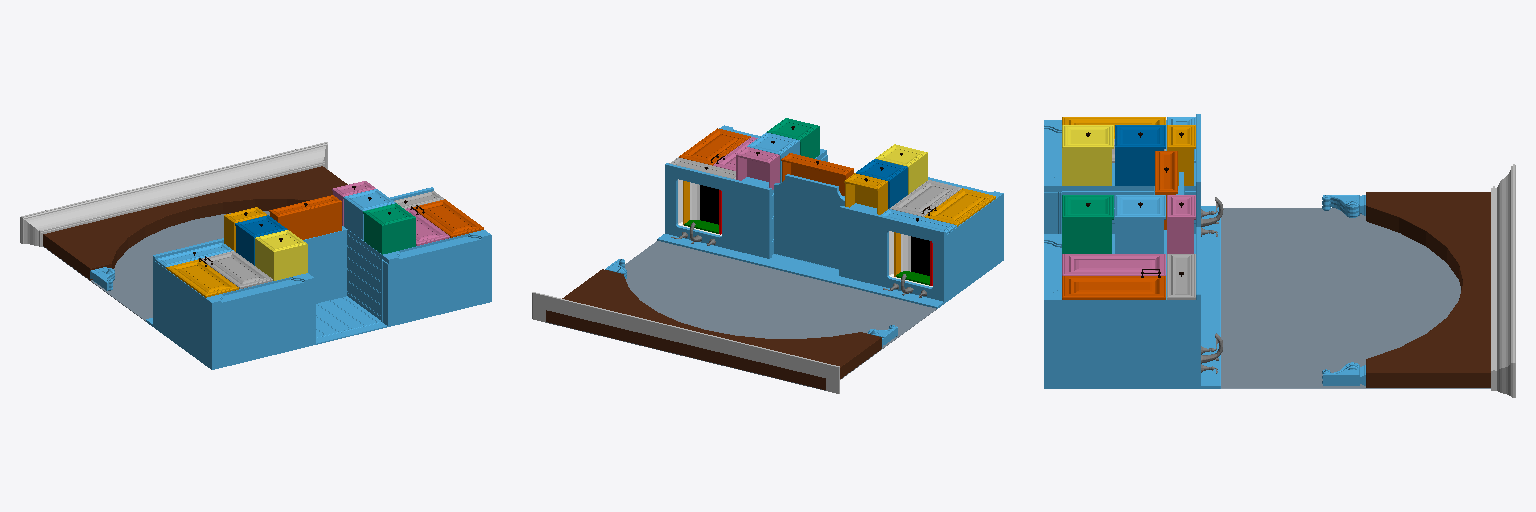
robot.urdf — s__1249:
<robot name="s__1249">


	<link name="0:virtual">
		<visual>
			<origin xyz="0.0 0.0 0.0" rpy="0 0 0"/>
			<geometry>
				<cylinder length="0" radius="0"/>
			</geometry>
		</visual>
	</link>


	<link name="1:static">
		<visual>
			<origin xyz="-0.0 -0.0 -0.0" rpy="0 0 0"/>
			<geometry>
				<mesh filename="../raw_data/s__1249/part_meshes/1.dae" />
			</geometry>
		</visual>
	</link>


	<link name="2:faucet handle 1">
		<visual>
			<origin xyz="1.0483477637624394 -0.9616730017662048 0.2910869707179954" rpy="0 0 0"/>
			<geometry>
				<mesh filename="../raw_data/s__1249/part_meshes/2.dae" />
			</geometry>
		</visual>
	</link>


	<link name="3:faucet lift rod 1">
		<visual>
			<origin xyz="0.9250001608975427 -0.9515649676322937 0.3011934459505527" rpy="0 0 0"/>
			<geometry>
				<mesh filename="../raw_data/s__1249/part_meshes/3.dae" />
			</geometry>
		</visual>
	</link>


	<link name="4:faucet lift rod 2">
		<visual>
			<origin xyz="-0.9249999001612884 -0.9515649676322937 0.3011933341572664" rpy="0 0 0"/>
			<geometry>
				<mesh filename="../raw_data/s__1249/part_meshes/4.dae" />
			</geometry>
		</visual>
	</link>


	<link name="5:cabinet door 1">
		<visual>
			<origin xyz="-1.074999988079071 -0.3999999947845936 -0.22299999743700027" rpy="0 0 0"/>
			<geometry>
				<mesh filename="../raw_data/s__1249/part_meshes/5.dae" />
			</geometry>
		</visual>
	</link>


	<link name="6:cabinet door 2">
		<visual>
			<origin xyz="-0.7750000059604645 -0.3999999947845936 -0.22299999743700027" rpy="0 0 0"/>
			<geometry>
				<mesh filename="../raw_data/s__1249/part_meshes/6.dae" />
			</geometry>
		</visual>
	</link>


	<link name="7:cabinet door 3">
		<visual>
			<origin xyz="0.7750000059604645 -0.3999999947845936 -0.22299999743700027" rpy="0 0 0"/>
			<geometry>
				<mesh filename="../raw_data/s__1249/part_meshes/7.dae" />
			</geometry>
		</visual>
	</link>


	<link name="8:cabinet door 4">
		<visual>
			<origin xyz="1.211499966621399 -0.3674999991059303 -0.22000000154972077" rpy="0 0 0"/>
			<geometry>
				<mesh filename="../raw_data/s__1249/part_meshes/8.dae" />
			</geometry>
		</visual>
	</link>


	<link name="9:drawer 1">
		<visual>
			<origin xyz="-0.4749999940395355 -0.5499999970197678 0.05649749934673309" rpy="0 0 0"/>
			<geometry>
				<mesh filename="../raw_data/s__1249/part_meshes/9.dae" />
			</geometry>
		</visual>
	</link>


	<link name="10:drawer 2">
		<visual>
			<origin xyz="-0.4749999940395355 -0.2500000037252903 0.05649749934673309" rpy="0 0 0"/>
			<geometry>
				<mesh filename="../raw_data/s__1249/part_meshes/10.dae" />
			</geometry>
		</visual>
	</link>


	<link name="11:drawer 3">
		<visual>
			<origin xyz="0.4749999940395355 -0.2500000037252903 0.05649749934673309" rpy="0 0 0"/>
			<geometry>
				<mesh filename="../raw_data/s__1249/part_meshes/11.dae" />
			</geometry>
		</visual>
	</link>


	<link name="12:drawer 4">
		<visual>
			<origin xyz="0.4749999940395355 -0.5499999970197678 0.05649749934673309" rpy="0 0 0"/>
			<geometry>
				<mesh filename="../raw_data/s__1249/part_meshes/12.dae" />
			</geometry>
		</visual>
	</link>


	<link name="13:drawer 5">
		<visual>
			<origin xyz="-0.0 -0.699999988079071 0.0589974969625473" rpy="0 0 0"/>
			<geometry>
				<mesh filename="../raw_data/s__1249/part_meshes/13.dae" />
			</geometry>
		</visual>
	</link>


	<link name="14:drawer 6">
		<visual>
			<origin xyz="-0.4749999940395355 -0.7849999964237213 0.0589974969625473" rpy="0 0 0"/>
			<geometry>
				<mesh filename="../raw_data/s__1249/part_meshes/14.dae" />
			</geometry>
		</visual>
	</link>


	<link name="15:drawer 7">
		<visual>
			<origin xyz="-0.9249999821186066 -0.7849999964237213 0.008211009204387665" rpy="0 0 0"/>
			<geometry>
				<mesh filename="../raw_data/s__1249/part_meshes/15.dae" />
			</geometry>
		</visual>
	</link>


	<link name="16:drawer 8">
		<visual>
			<origin xyz="0.4749999940395355 -0.7849999964237213 0.0589974969625473" rpy="0 0 0"/>
			<geometry>
				<mesh filename="../raw_data/s__1249/part_meshes/16.dae" />
			</geometry>
		</visual>
	</link>


	<link name="17:drawer 9">
		<visual>
			<origin xyz="0.9249999821186066 -0.7849999964237213 0.008211277425289154" rpy="0 0 0"/>
			<geometry>
				<mesh filename="../raw_data/s__1249/part_meshes/17.dae" />
			</geometry>
		</visual>
	</link>


	<link name="18:faucet handle 2">
		<visual>
			<origin xyz="-0.8036218631467004 -0.9572769994735717 0.29963982456509924" rpy="0 0 0"/>
			<geometry>
				<mesh filename="../raw_data/s__1249/part_meshes/18.dae" />
			</geometry>
		</visual>
	</link>


	<link name="19:faucet handle 3">
		<visual>
			<origin xyz="-1.0643813787312422 -0.9572769994735718 0.3152838359203729" rpy="0 0 0"/>
			<geometry>
				<mesh filename="../raw_data/s__1249/part_meshes/19.dae" />
			</geometry>
		</visual>
	</link>


	<link name="20:faucet handle 4">
		<visual>
			<origin xyz="0.8073064237234654 -0.9672769994735718 0.302922795153217" rpy="0 0 0"/>
			<geometry>
				<mesh filename="../raw_data/s__1249/part_meshes/20.dae" />
			</geometry>
		</visual>
	</link>


	<joint name="0:virtual::1:static" type="fixed">
		<parent link="0:virtual"/>
		<child link="1:static"/>
		<origin xyz="0.0 0.0 0.0" rpy="0 0 0"/>
	</joint>


	<joint name="0:virtual::2:faucet handle 1_rotation" type="revolute">
		<parent link="0:virtual"/>
		<child link="2:faucet handle 1"/>
		<origin xyz="-1.0483477637624394 0.9616730017662048 -0.2910869707179954" rpy="0 0 0"/>
		<limit lower="0.20420352248333656" upper="1.1623892818282235" effort="10" velocity="3"/>
		<axis xyz="0.0 1.0 0.0"/>
	</joint>


	<joint name="0:virtual::3:faucet lift rod 1_translation" type="prismatic">
		<parent link="0:virtual"/>
		<child link="3:faucet lift rod 1"/>
		<origin xyz="-0.9250001608975427 0.9515649676322937 -0.3011934459505527" rpy="0 0 0"/>
		<limit lower="0.0" upper="0.0430000321865082" effort="10" velocity="3"/>
		<axis xyz="0.0 1.0 0.0"/>
	</joint>


	<joint name="0:virtual::4:faucet lift rod 2_translation" type="prismatic">
		<parent link="0:virtual"/>
		<child link="4:faucet lift rod 2"/>
		<origin xyz="0.9249999001612884 0.9515649676322937 -0.3011933341572664" rpy="0 0 0"/>
		<limit lower="0.0" upper="0.0430000321865082" effort="10" velocity="3"/>
		<axis xyz="0.0 1.0 0.0"/>
	</joint>


	<joint name="0:virtual::5:cabinet door 1_rotation" type="revolute">
		<parent link="0:virtual"/>
		<child link="5:cabinet door 1"/>
		<origin xyz="1.074999988079071 0.3999999947845936 0.22299999743700027" rpy="0 0 0"/>
		<limit lower="-2.0420352248333655" upper="0.0" effort="10" velocity="3"/>
		<axis xyz="0.0 1.0 0.0"/>
	</joint>


	<joint name="0:virtual::6:cabinet door 2_rotation" type="revolute">
		<parent link="0:virtual"/>
		<child link="6:cabinet door 2"/>
		<origin xyz="0.7750000059604645 0.3999999947845936 0.22299999743700027" rpy="0 0 0"/>
		<limit lower="-2.0420352248333655" upper="0.0" effort="10" velocity="3"/>
		<axis xyz="0.0 1.0 0.0"/>
	</joint>


	<joint name="0:virtual::7:cabinet door 3_rotation" type="revolute">
		<parent link="0:virtual"/>
		<child link="7:cabinet door 3"/>
		<origin xyz="-0.7750000059604645 0.3999999947845936 0.22299999743700027" rpy="0 0 0"/>
		<limit lower="-2.0420352248333655" upper="0.0" effort="10" velocity="3"/>
		<axis xyz="0.0 1.0 0.0"/>
	</joint>


	<joint name="0:virtual::8:cabinet door 4_rotation" type="revolute">
		<parent link="0:virtual"/>
		<child link="8:cabinet door 4"/>
		<origin xyz="-1.211499966621399 0.3674999991059303 0.22000000154972077" rpy="0 0 0"/>
		<limit lower="-2.0420352248333655" upper="0.0" effort="10" velocity="3"/>
		<axis xyz="0.0 1.0 0.0"/>
	</joint>


	<joint name="0:virtual::9:drawer 1_translation" type="prismatic">
		<parent link="0:virtual"/>
		<child link="9:drawer 1"/>
		<origin xyz="0.4749999940395355 0.5499999970197678 -0.05649749934673309" rpy="0 0 0"/>
		<limit lower="0.0060000066161156" upper="0.450000006616116" effort="10" velocity="3"/>
		<axis xyz="0.0 0.0 1.0"/>
	</joint>


	<joint name="0:virtual::10:drawer 2_translation" type="prismatic">
		<parent link="0:virtual"/>
		<child link="10:drawer 2"/>
		<origin xyz="0.4749999940395355 0.2500000037252903 -0.05649749934673309" rpy="0 0 0"/>
		<limit lower="0.0060000066161156" upper="0.450000006616116" effort="10" velocity="3"/>
		<axis xyz="0.0 0.0 1.0"/>
	</joint>


	<joint name="0:virtual::11:drawer 3_translation" type="prismatic">
		<parent link="0:virtual"/>
		<child link="11:drawer 3"/>
		<origin xyz="-0.4749999940395355 0.2500000037252903 -0.05649749934673309" rpy="0 0 0"/>
		<limit lower="0.0060000066161156" upper="0.450000006616116" effort="10" velocity="3"/>
		<axis xyz="0.0 0.0 1.0"/>
	</joint>


	<joint name="0:virtual::12:drawer 4_translation" type="prismatic">
		<parent link="0:virtual"/>
		<child link="12:drawer 4"/>
		<origin xyz="-0.4749999940395355 0.5499999970197678 -0.05649749934673309" rpy="0 0 0"/>
		<limit lower="0.0060000066161156" upper="0.450000006616116" effort="10" velocity="3"/>
		<axis xyz="0.0 0.0 1.0"/>
	</joint>


	<joint name="0:virtual::13:drawer 5_translation" type="prismatic">
		<parent link="0:virtual"/>
		<child link="13:drawer 5"/>
		<origin xyz="0.0 0.699999988079071 -0.0589974969625473" rpy="0 0 0"/>
		<limit lower="0.0060000066161156" upper="0.450000006616116" effort="10" velocity="3"/>
		<axis xyz="0.0 0.0 1.0"/>
	</joint>


	<joint name="0:virtual::14:drawer 6_translation" type="prismatic">
		<parent link="0:virtual"/>
		<child link="14:drawer 6"/>
		<origin xyz="0.4749999940395355 0.7849999964237213 -0.0589974969625473" rpy="0 0 0"/>
		<limit lower="0.0060000066161156" upper="0.450000006616116" effort="10" velocity="3"/>
		<axis xyz="0.0 0.0 1.0"/>
	</joint>


	<joint name="0:virtual::15:drawer 7_translation" type="prismatic">
		<parent link="0:virtual"/>
		<child link="15:drawer 7"/>
		<origin xyz="0.9249999821186066 0.7849999964237213 -0.008211009204387665" rpy="0 0 0"/>
		<limit lower="0.0" upper="0.282000006616116" effort="10" velocity="3"/>
		<axis xyz="0.0 0.0 1.0"/>
	</joint>


	<joint name="0:virtual::16:drawer 8_translation" type="prismatic">
		<parent link="0:virtual"/>
		<child link="16:drawer 8"/>
		<origin xyz="-0.4749999940395355 0.7849999964237213 -0.0589974969625473" rpy="0 0 0"/>
		<limit lower="0.0060000066161156" upper="0.450000006616116" effort="10" velocity="3"/>
		<axis xyz="0.0 0.0 1.0"/>
	</joint>


	<joint name="0:virtual::17:drawer 9_translation" type="prismatic">
		<parent link="0:virtual"/>
		<child link="17:drawer 9"/>
		<origin xyz="-0.9249999821186066 0.7849999964237213 -0.008211277425289154" rpy="0 0 0"/>
		<limit lower="0.0" upper="0.282000006616116" effort="10" velocity="3"/>
		<axis xyz="0.0 0.0 1.0"/>
	</joint>


	<joint name="0:virtual::18:faucet handle 2_rotation" type="revolute">
		<parent link="0:virtual"/>
		<child link="18:faucet handle 2"/>
		<origin xyz="0.8036218631467004 0.9572769994735717 -0.29963982456509924" rpy="0 0 0"/>
		<limit lower="0.3612831551628262" upper="1.6336281798666925" effort="10" velocity="3"/>
		<axis xyz="0.0 1.0 0.0"/>
	</joint>


	<joint name="0:virtual::19:faucet handle 3_rotation" type="revolute">
		<parent link="0:virtual"/>
		<child link="19:faucet handle 3"/>
		<origin xyz="1.0643813787312422 0.9572769994735718 -0.3152838359203729" rpy="0 0 0"/>
		<limit lower="-1.1152653920243765" upper="0.0" effort="10" velocity="3"/>
		<axis xyz="0.0 1.0 0.0"/>
	</joint>


	<joint name="0:virtual::20:faucet handle 4_rotation" type="revolute">
		<parent link="0:virtual"/>
		<child link="20:faucet handle 4"/>
		<origin xyz="-0.8073064237234654 0.9672769994735718 -0.302922795153217" rpy="0 0 0"/>
		<limit lower="-0.9424777960769379" upper="0.21991148575128555" effort="10" velocity="3"/>
		<axis xyz="0.0 1.0 0.0"/>
	</joint>


</robot>

--- Render facts (derived) ---
3 views of the same robot in one strip: view 1: azimuth 30°, elevation 25°; view 2: azimuth 150°, elevation 25°; view 3: azimuth 270°, elevation 25° (orthographic).
Model s__1249 with 21 links and 20 joints (8 revolute, 11 prismatic, 1 fixed), rooted at 0:virtual, posed joints at zero except 9 at the middle of their limits (0:virtual::2:faucet handle 1_rotation = 0.6833, 0:virtual::9:drawer 1_translation = 0.228, 0:virtual::10:drawer 2_translation = 0.228, 0:virtual::11:drawer 3_translation = 0.228, 0:virtual::12:drawer 4_translation = 0.228, 0:virtual::13:drawer 5_translation = 0.228, +3 more).
Links seen in each view (by area): view 1: 1:static, 13:drawer 5, 11:drawer 3, 10:drawer 2, 8:cabinet door 4, 7:cabinet door 3, 5:cabinet door 1, 9:drawer 1, 12:drawer 4, 17:drawer 9, 16:drawer 8, 6:cabinet door 2; view 2: 1:static, 17:drawer 9, 15:drawer 7, 13:drawer 5, 8:cabinet door 4, 14:drawer 6, 16:drawer 8, 7:cabinet door 3, 5:cabinet door 1, 11:drawer 3, 12:drawer 4, 10:drawer 2 (+1 smaller); view 3: 1:static, 11:drawer 3, 10:drawer 2, 9:drawer 1, 12:drawer 4, 5:cabinet door 1, 6:cabinet door 2, 14:drawer 6, 15:drawer 7, 16:drawer 8, 13:drawer 5, 8:cabinet door 4.
Boxes of the visible links, x1=… form: 1:static: x1=20, y1=142, x2=491, y2=369; 13:drawer 5: x1=269, y1=195, x2=341, y2=239; 11:drawer 3: x1=255, y1=230, x2=307, y2=280; 10:drawer 2: x1=363, y1=203, x2=415, y2=254; 8:cabinet door 4: x1=166, y1=258, x2=238, y2=297; 7:cabinet door 3: x1=202, y1=251, x2=272, y2=288; 5:cabinet door 1: x1=413, y1=199, x2=483, y2=237; 9:drawer 1: x1=343, y1=189, x2=395, y2=239; 12:drawer 4: x1=235, y1=215, x2=287, y2=265; 17:drawer 9: x1=155, y1=243, x2=233, y2=268; 16:drawer 8: x1=224, y1=207, x2=266, y2=251; 6:cabinet door 2: x1=405, y1=206, x2=449, y2=245; 1:static: x1=532, y1=125, x2=1003, y2=393; 17:drawer 9: x1=881, y1=209, x2=956, y2=285; 15:drawer 7: x1=669, y1=157, x2=735, y2=234; 13:drawer 5: x1=781, y1=153, x2=853, y2=195; 8:cabinet door 4: x1=924, y1=188, x2=995, y2=226; 14:drawer 6: x1=736, y1=147, x2=779, y2=189; 16:drawer 8: x1=844, y1=173, x2=887, y2=214; 7:cabinet door 3: x1=889, y1=180, x2=961, y2=216; 5:cabinet door 1: x1=679, y1=128, x2=750, y2=165; 11:drawer 3: x1=875, y1=144, x2=927, y2=194; 12:drawer 4: x1=856, y1=159, x2=907, y2=208; 10:drawer 2: x1=767, y1=118, x2=819, y2=158; 1:static: x1=1044, y1=114, x2=1515, y2=397; 11:drawer 3: x1=1062, y1=125, x2=1113, y2=185; 10:drawer 2: x1=1062, y1=195, x2=1113, y2=253; 9:drawer 1: x1=1115, y1=195, x2=1165, y2=253; 12:drawer 4: x1=1115, y1=125, x2=1165, y2=185; 5:cabinet door 1: x1=1062, y1=272, x2=1165, y2=299; 6:cabinet door 2: x1=1062, y1=254, x2=1165, y2=275; 14:drawer 6: x1=1167, y1=195, x2=1195, y2=253; 15:drawer 7: x1=1167, y1=254, x2=1195, y2=299; 16:drawer 8: x1=1167, y1=125, x2=1195, y2=185; 13:drawer 5: x1=1155, y1=151, x2=1177, y2=229; 8:cabinet door 4: x1=1062, y1=117, x2=1165, y2=138.
Bounding box of the posed robot: 2.69 × 2.7 × 0.827 m (x, y, z).
Meshes: 20 distinct files referenced, 20 mesh visuals loaded (20 Collada DAE).